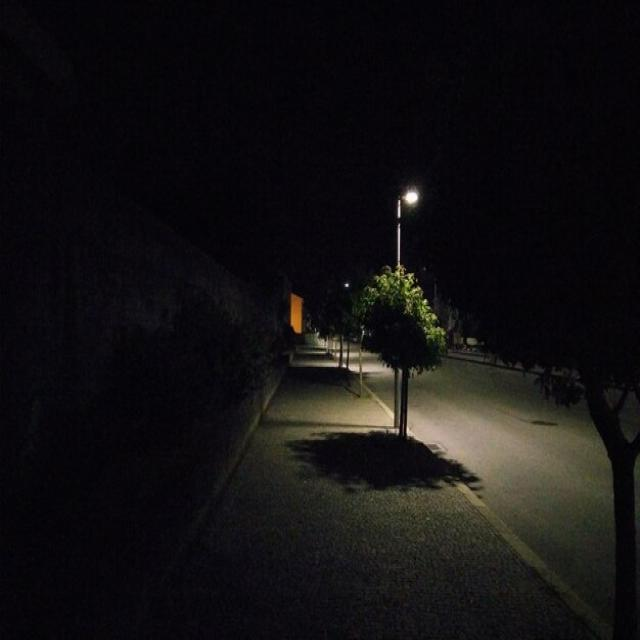streetlight: (400, 169, 423, 215), (339, 274, 353, 298)
